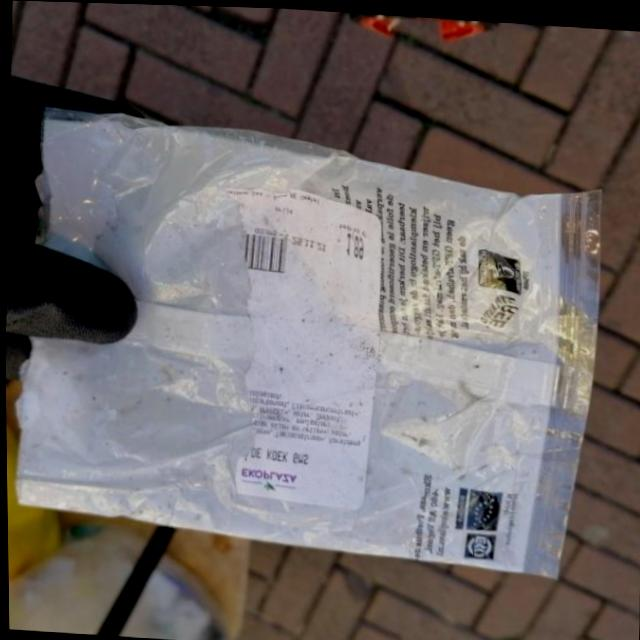Plastic: (3, 100, 618, 583)
